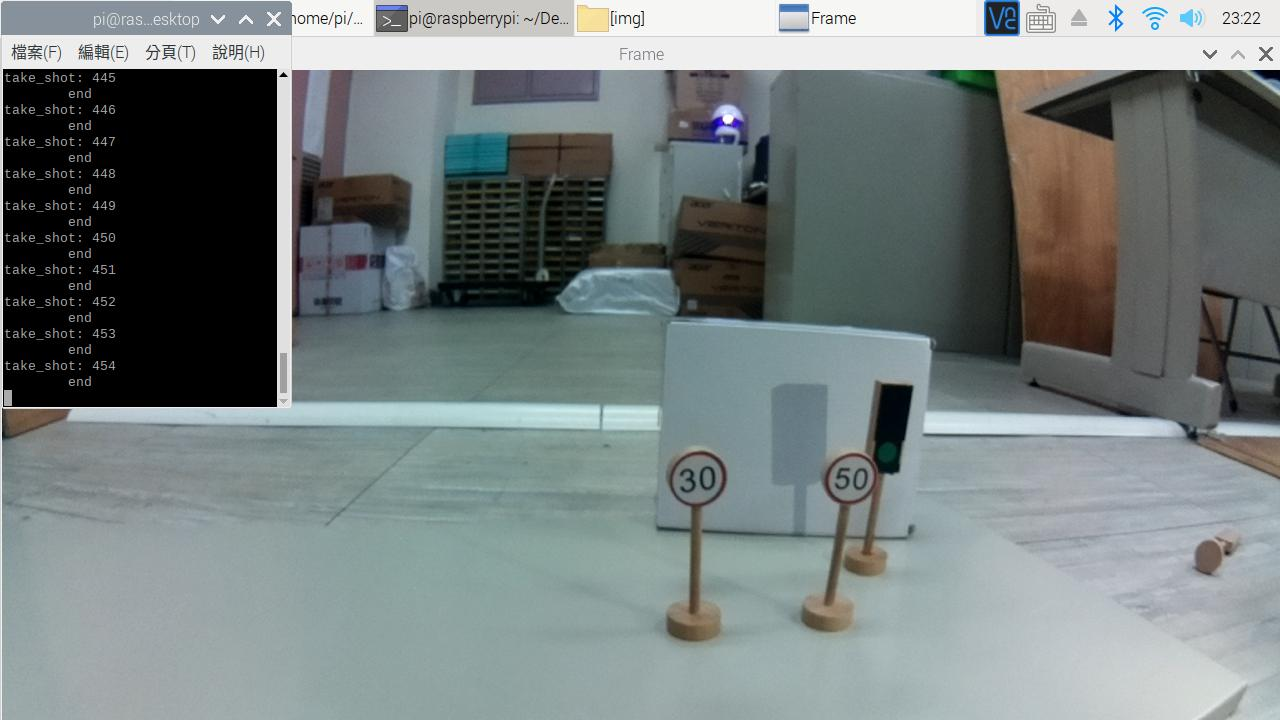Green: (859, 375, 912, 482)
Speed30: (646, 440, 734, 524)
Speed50: (813, 448, 882, 508)
